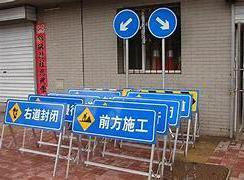sign: (73, 105, 155, 140), (4, 98, 66, 130)
